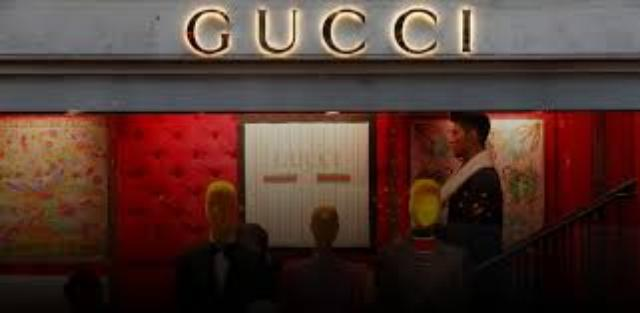Gucci: (176, 2, 484, 58)
